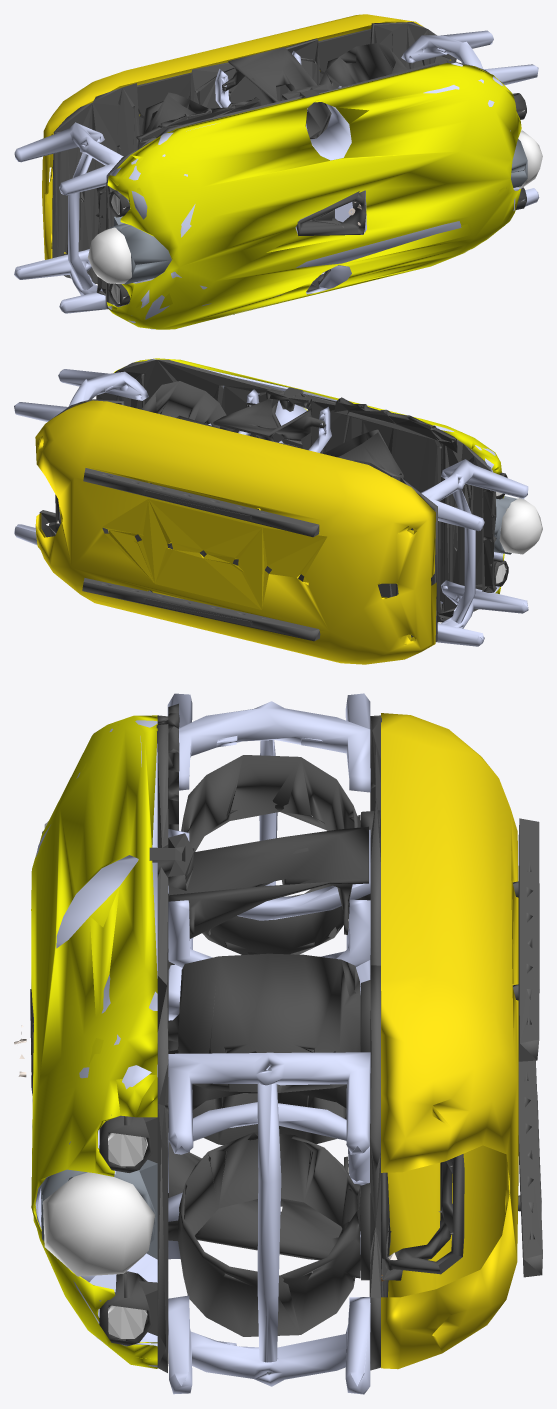
File: colrov_vis_empty_blend.obj
3 renders of one model, top to bottom at view 1: azimuth 30°, elevation 25°; view 2: azimuth 150°, elevation 25°; view 3: azimuth 270°, elevation 25°, orthographic. The views are drawn at different scales.
Visible parts, largest first — view 1: colrov_vis_empty; view 2: colrov_vis_empty; view 3: colrov_vis_empty.
Boxes of the visible parts, <box> form: colrov_vis_empty: <box>14,14,542,329</box>; colrov_vis_empty: <box>14,358,542,664</box>; colrov_vis_empty: <box>14,693,542,1394</box>.
Bounding box in the file's own units: 1.01 × 0.4297 × 0.5005.
